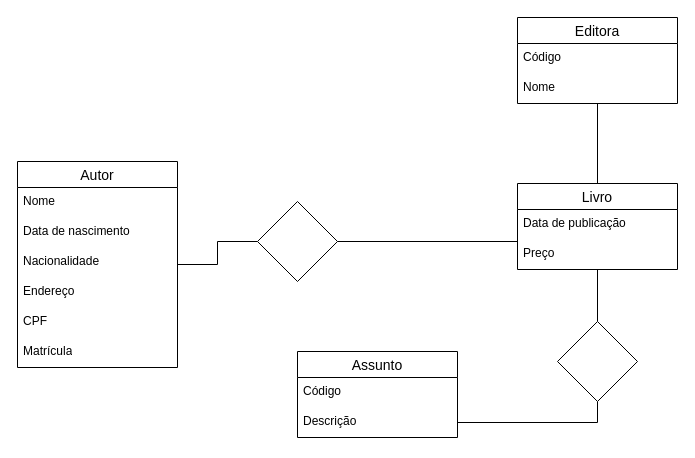
This 695x458 diagram has some shape labels left out. The centre of each missing label's shape, as x and y in pixels:
Autoria: point (297, 241)
Conteúdo: point (597, 361)
